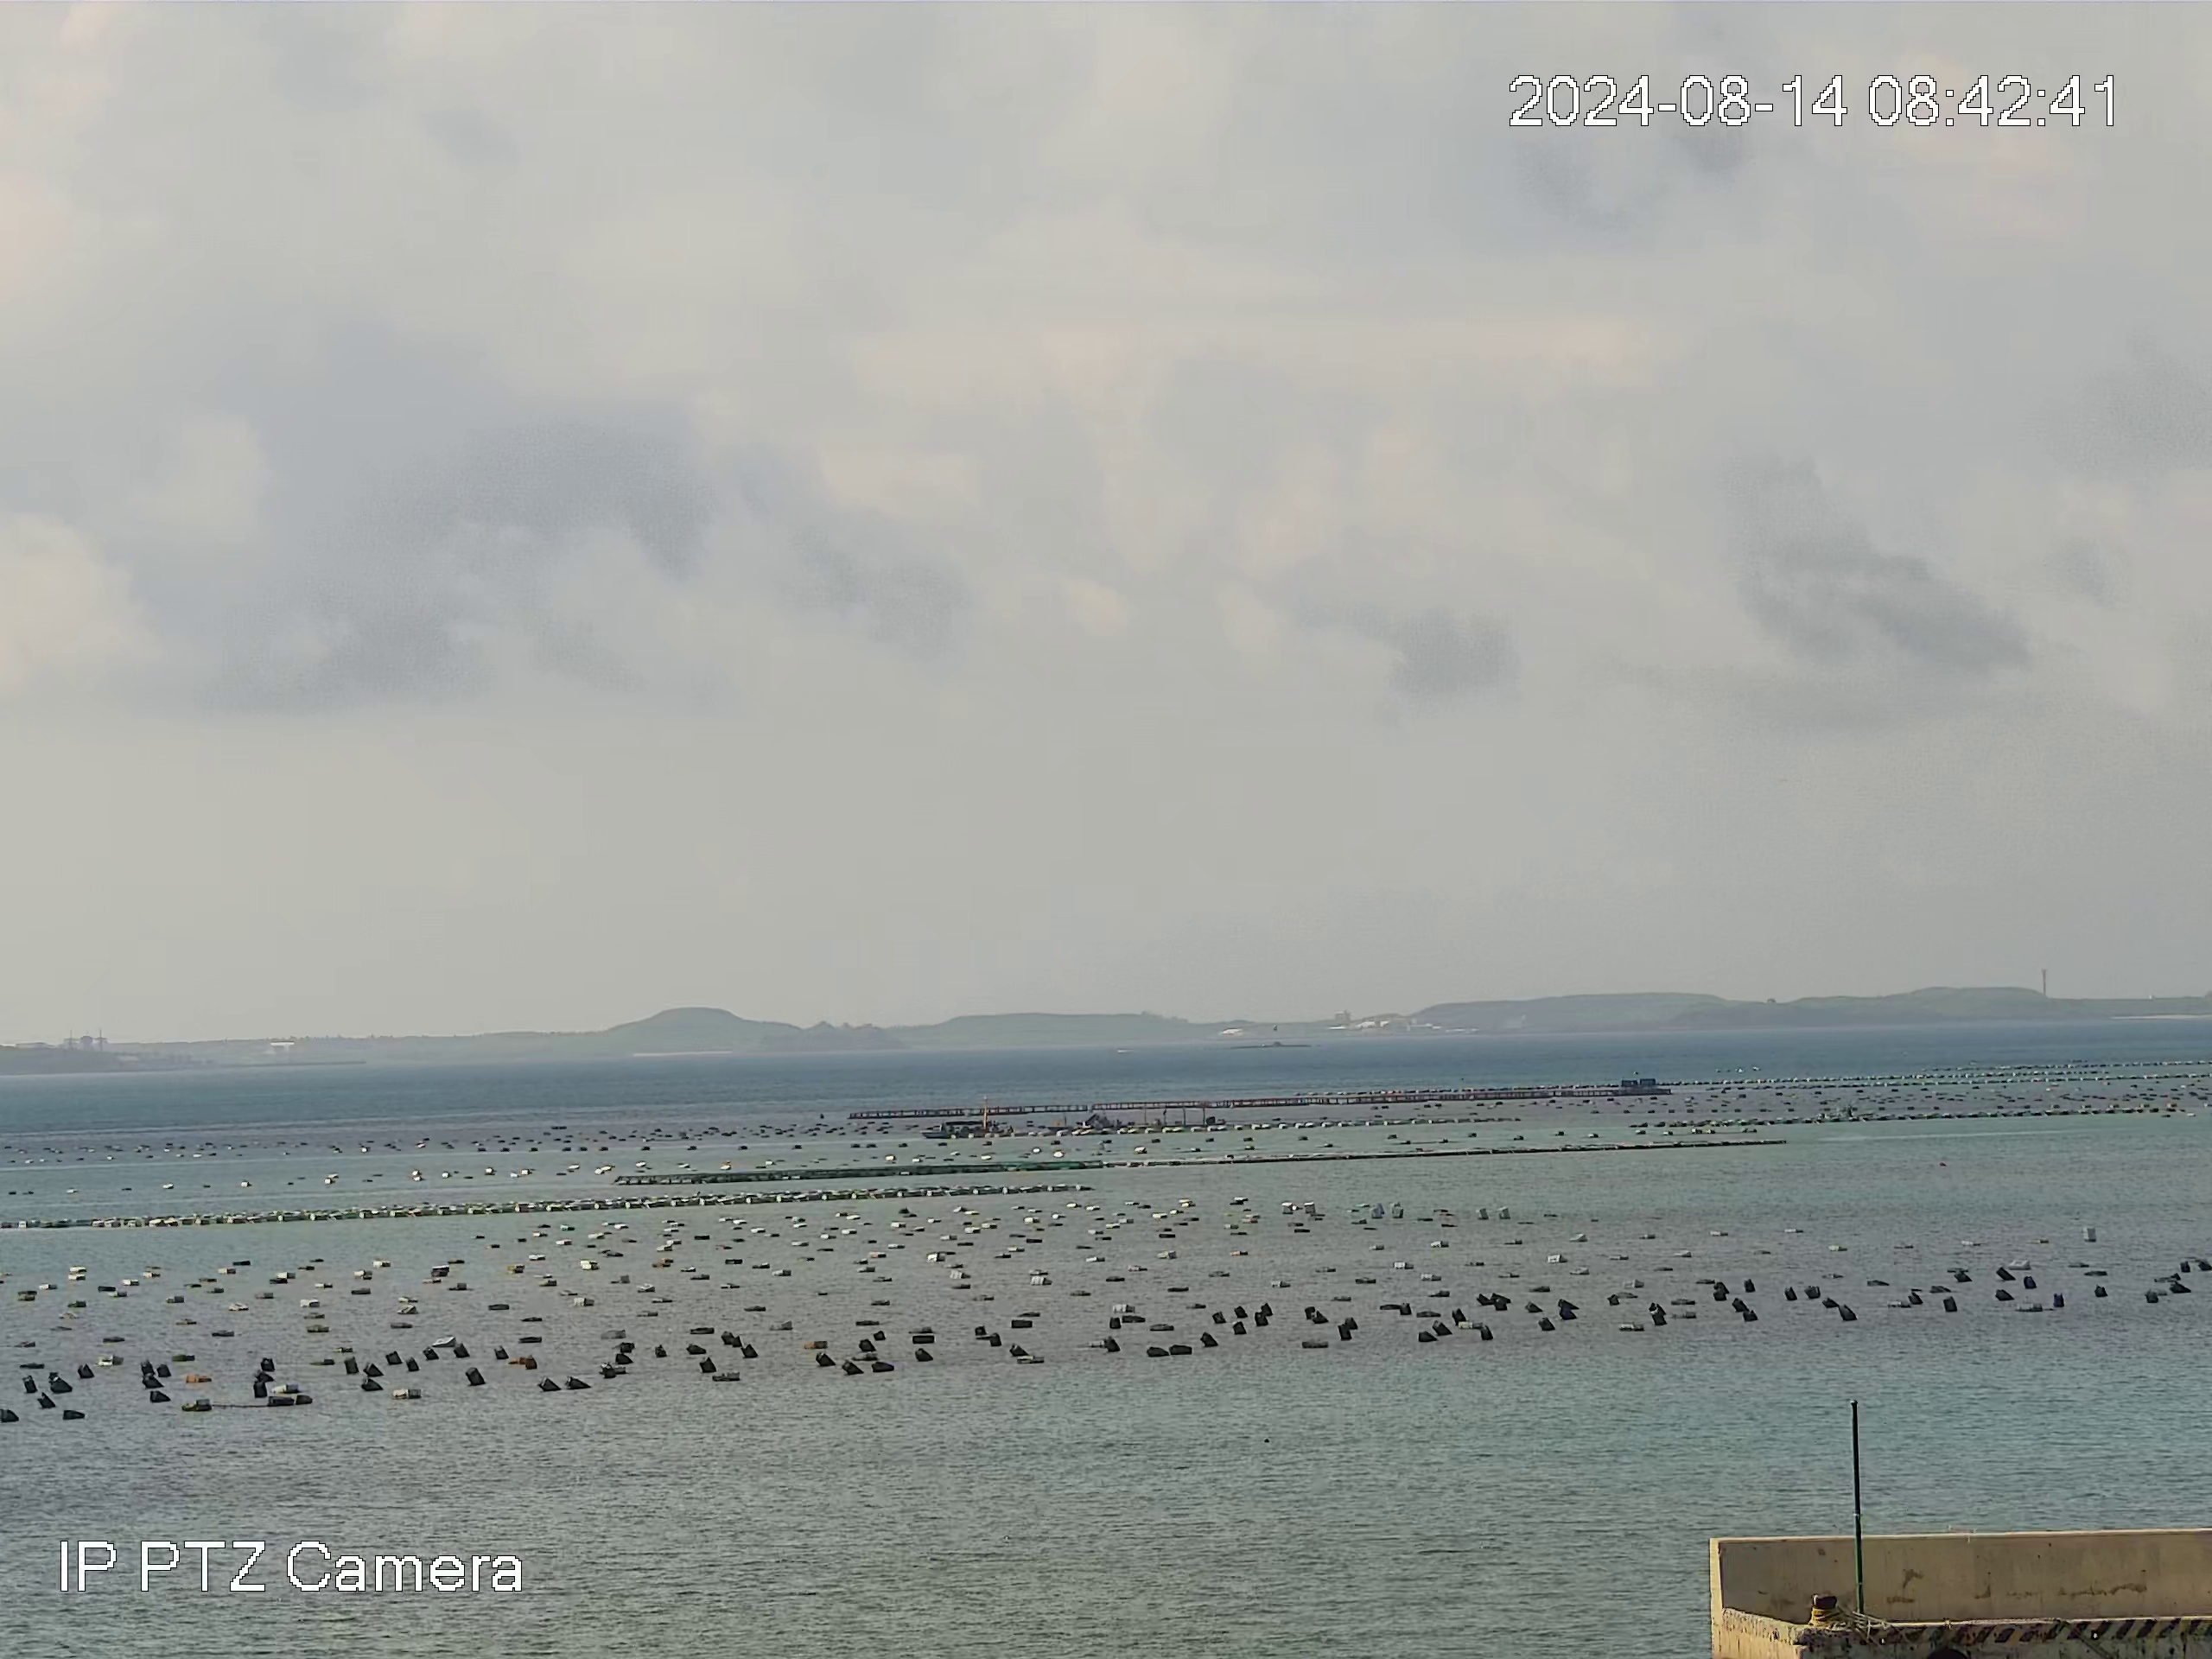boat: (920, 1121, 989, 1140)
